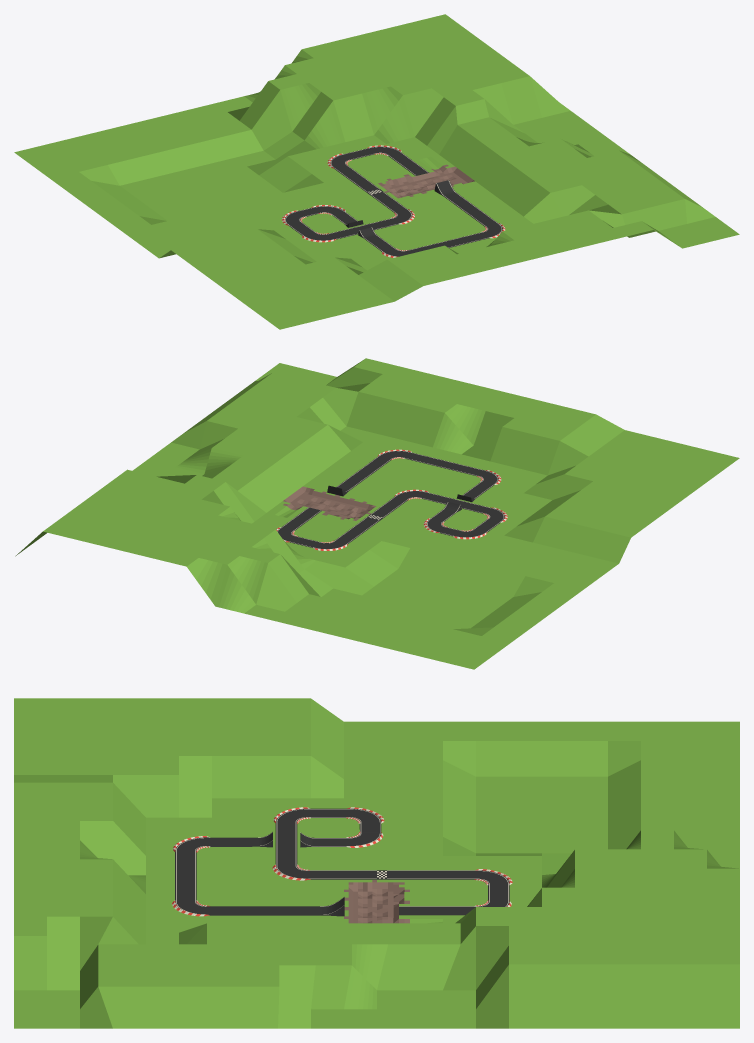
Rendered from MapRoad.fbx.
3 views of the same model, one above another, from view 1: azimuth 30°, elevation 25°; view 2: azimuth 150°, elevation 25°; view 3: azimuth 270°, elevation 25° (orthographic). The views are drawn at different scales.
Parts seen in each view (by area): view 1: Ground, Track; view 2: Ground, Track; view 3: Ground, Track.
Part boxes in pixels (x1,y1,x2,y2): Ground: (14, 14, 739, 329); Track: (282, 145, 505, 257); Ground: (15, 358, 739, 669); Track: (276, 449, 507, 550); Ground: (14, 698, 739, 1028); Track: (172, 807, 512, 916).
Size of the model in its own units: 24000 by 2242 by 24000.
Materials: 1 (1 with a texture image).
